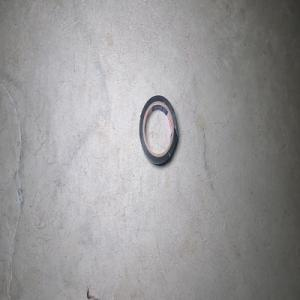Tape: (139, 95, 178, 165)
